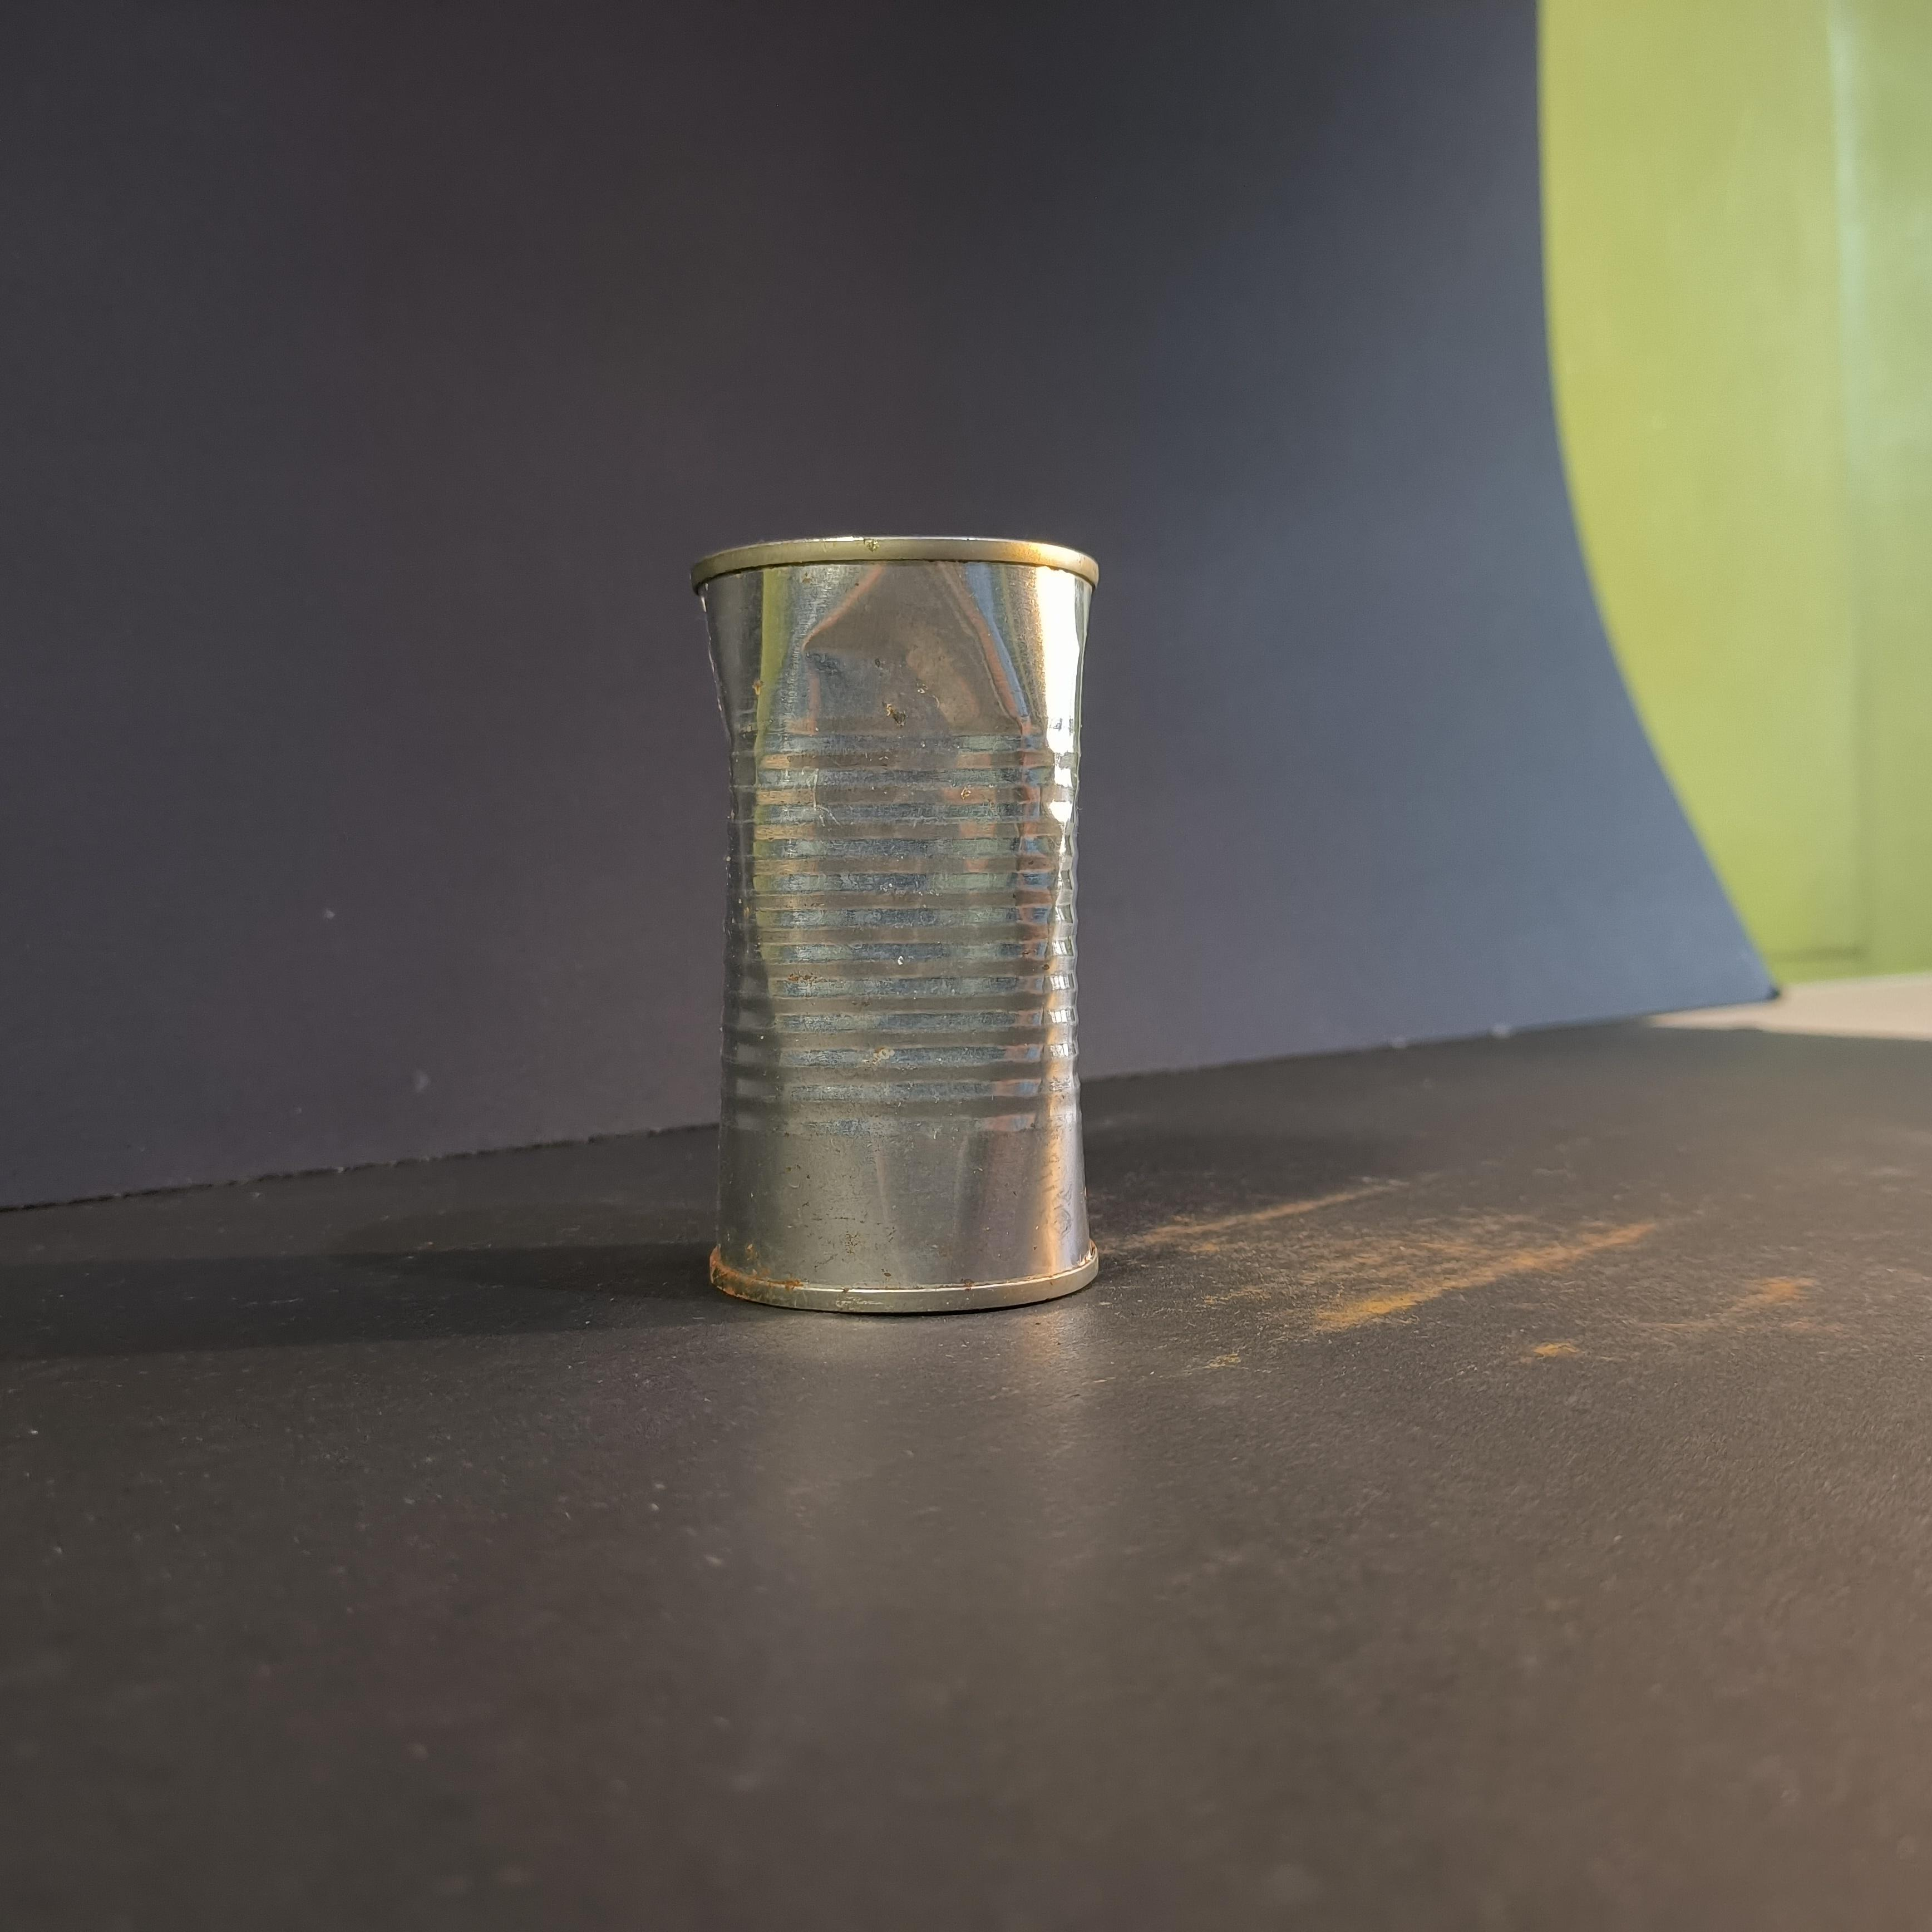Dented: (676, 515, 1141, 1332)
